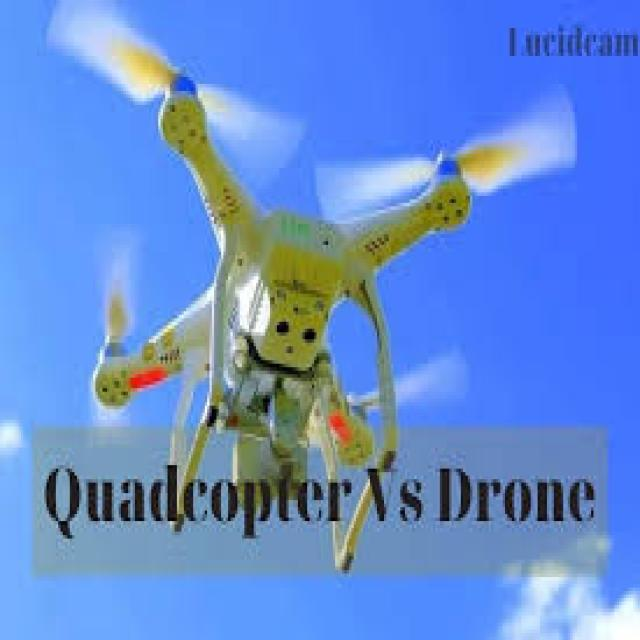drone: (40, 0, 577, 578)
